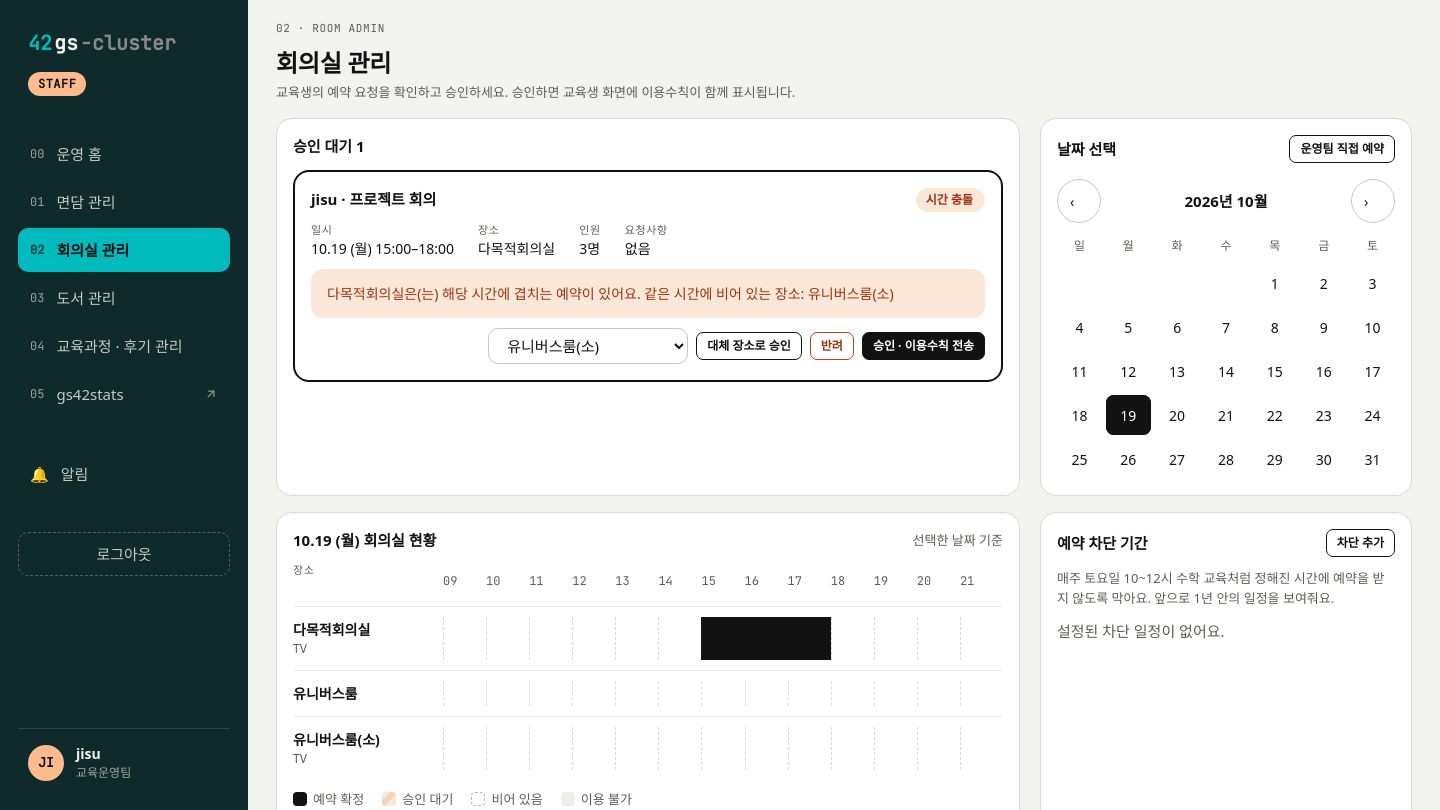
Test case: 운영 회의실 관리 화면 › 승인하면 요청이 사라진다
Check: the heading "회의실 관리" is shown, box left=276, top=46, right=391, bottom=78
Click the button "승인 · 이용수칙 전송": (923, 346) left=862, top=332, right=985, bottom=360
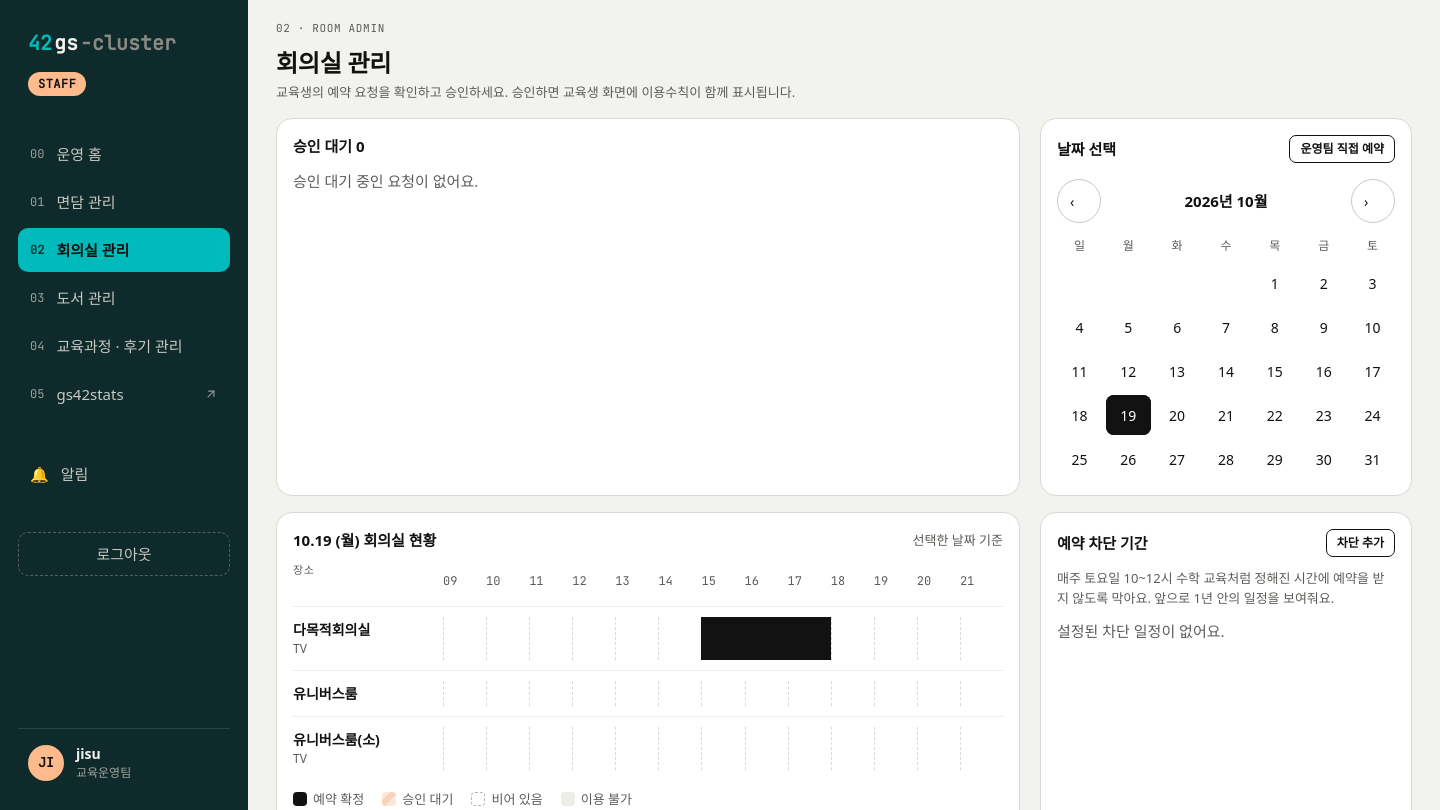
Check: the element with test id "pending-11" is gone
Check: the text "승인 대기 중인 요청이 없어요." is shown, box left=293, top=170, right=478, bottom=190
